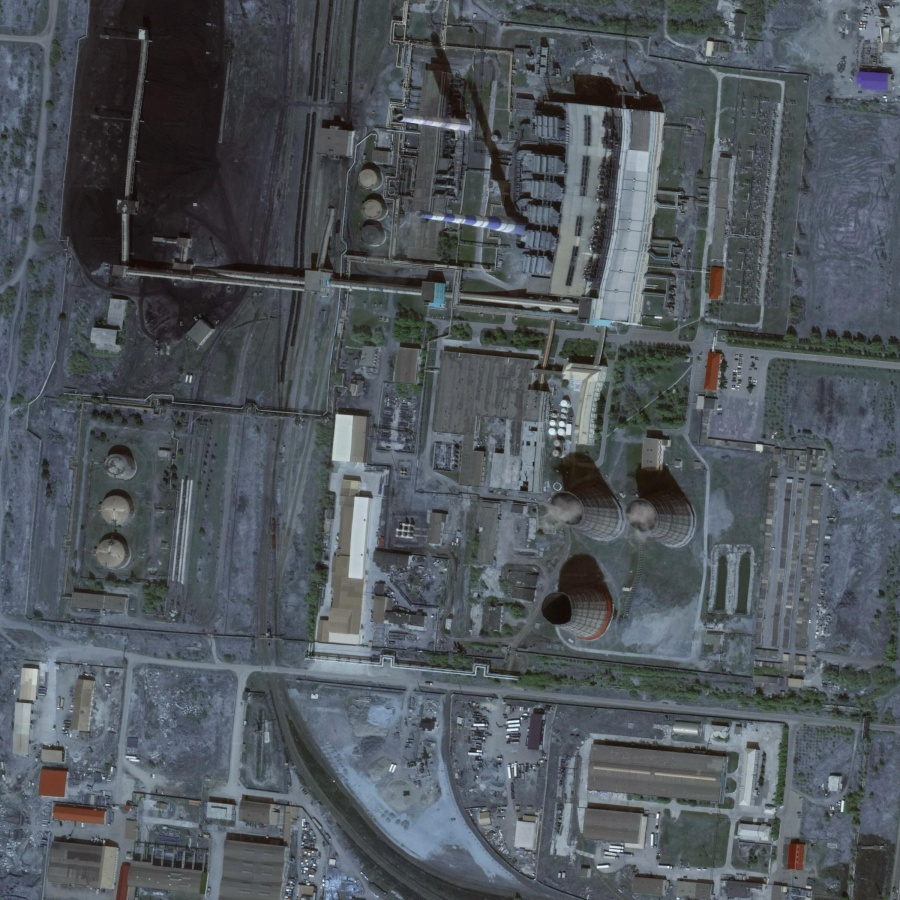PowerPlant: (377, 21, 566, 283), (533, 423, 722, 678), (55, 387, 203, 629)
